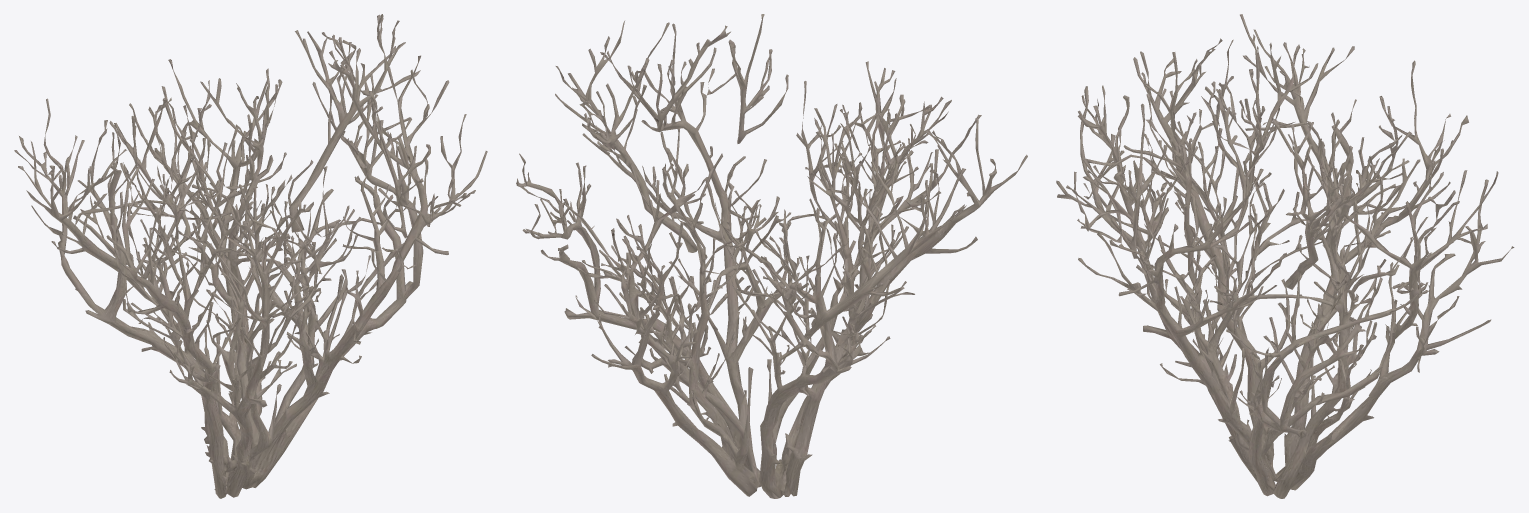
Rendered from prop_shrub.glb.
The picture shows the model from 3 angles, left to right: view 1: azimuth 30°, elevation 25°; view 2: azimuth 150°, elevation 25°; view 3: azimuth 270°, elevation 25°; orthographic projection.
Parts seen in each view (by area): view 1: Mesh_0; view 2: Mesh_0; view 3: Mesh_0.
Boxes of the visible parts, <box> form: Mesh_0: <box>14,14,487,498</box>; Mesh_0: <box>516,14,1027,498</box>; Mesh_0: <box>1056,14,1514,498</box>.
Bounding box in the file's own units: 1.9 × 1.91 × 1.78.
Materials: 1 (1 with a texture image).
